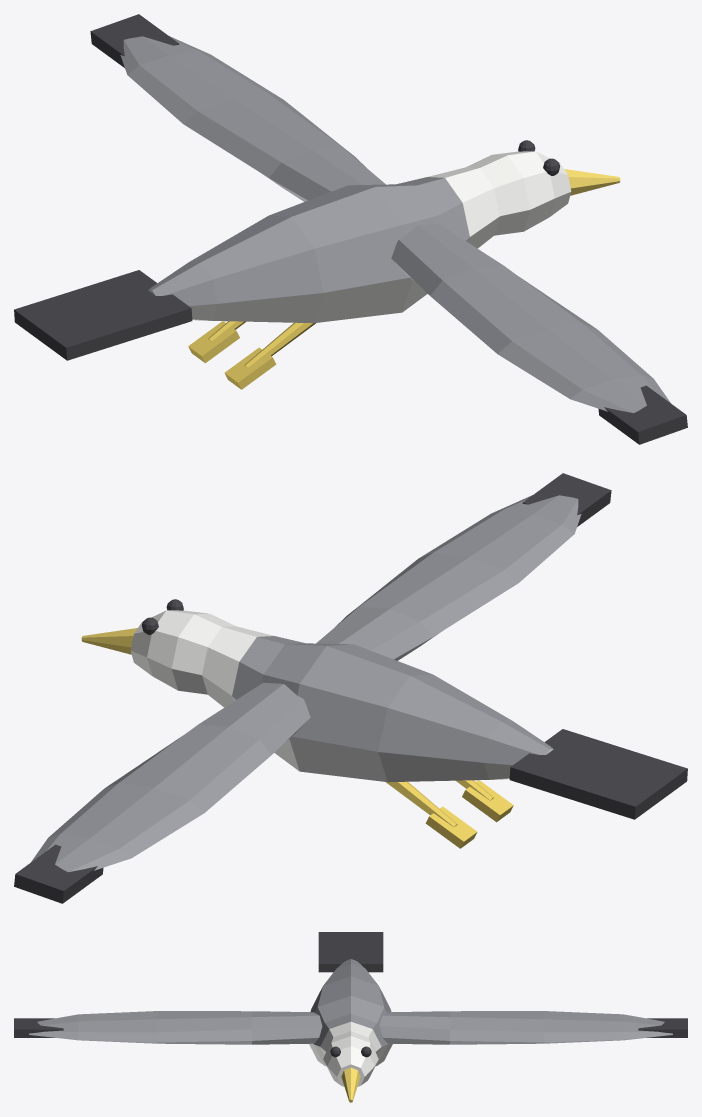
Rendered from 36-Fauna_gaviota.glb.
3 views of the same model, one above another, from view 1: azimuth 30°, elevation 25°; view 2: azimuth 150°, elevation 25°; view 3: azimuth 270°, elevation 25° (orthographic). The views are drawn at different scales.
Visible parts, largest first — view 1: SM_Gaviota_Cuerpo, SM_Gaviota_Ala_L, SM_Gaviota_Ala_R, SM_Gaviota_Cola, SM_Gaviota_Punta_0, SM_Gaviota_Punta_1, SM_Gaviota_Pie_0, SM_Gaviota_Pie_1, SM_Gaviota_Pico, SM_Gaviota_Pata_0; view 2: SM_Gaviota_Cuerpo, SM_Gaviota_Ala_R, SM_Gaviota_Ala_L, SM_Gaviota_Cola, SM_Gaviota_Punta_1, SM_Gaviota_Punta_0, SM_Gaviota_Pie_1, SM_Gaviota_Pie_0, SM_Gaviota_Pico, SM_Gaviota_Pata_1; view 3: SM_Gaviota_Ala_L, SM_Gaviota_Ala_R, SM_Gaviota_Cuerpo, SM_Gaviota_Cola, SM_Gaviota_Punta_0, SM_Gaviota_Punta_1, SM_Gaviota_Pico.
Boxes of the visible parts, x1=… form: SM_Gaviota_Cuerpo: x1=148, y1=151, x2=571, y2=323; SM_Gaviota_Ala_L: x1=391, y1=223, x2=670, y2=413; SM_Gaviota_Ala_R: x1=120, y1=36, x2=385, y2=201; SM_Gaviota_Cola: x1=14, y1=270, x2=192, y2=360; SM_Gaviota_Punta_0: x1=598, y1=385, x2=687, y2=444; SM_Gaviota_Punta_1: x1=90, y1=14, x2=179, y2=67; SM_Gaviota_Pie_0: x1=224, y1=347, x2=276, y2=389; SM_Gaviota_Pie_1: x1=188, y1=321, x2=239, y2=363; SM_Gaviota_Pico: x1=564, y1=169, x2=620, y2=195; SM_Gaviota_Pata_0: x1=244, y1=322, x2=315, y2=367; SM_Gaviota_Cuerpo: x1=130, y1=610, x2=553, y2=782; SM_Gaviota_Ala_R: x1=31, y1=682, x2=310, y2=872; SM_Gaviota_Ala_L: x1=316, y1=495, x2=581, y2=660; SM_Gaviota_Cola: x1=509, y1=729, x2=687, y2=819; SM_Gaviota_Punta_1: x1=14, y1=844, x2=103, y2=903; SM_Gaviota_Punta_0: x1=522, y1=473, x2=611, y2=526; SM_Gaviota_Pie_1: x1=425, y1=806, x2=477, y2=848; SM_Gaviota_Pie_0: x1=462, y1=780, x2=513, y2=822; SM_Gaviota_Pico: x1=81, y1=628, x2=137, y2=654; SM_Gaviota_Pata_1: x1=386, y1=781, x2=457, y2=826; SM_Gaviota_Ala_L: x1=29, y1=1011, x2=322, y2=1044; SM_Gaviota_Ala_R: x1=379, y1=1011, x2=672, y2=1044; SM_Gaviota_Cuerpo: x1=309, y1=959, x2=392, y2=1086; SM_Gaviota_Cola: x1=318, y1=932, x2=383, y2=972; SM_Gaviota_Punta_0: x1=14, y1=1018, x2=63, y2=1037; SM_Gaviota_Punta_1: x1=638, y1=1018, x2=687, y2=1037; SM_Gaviota_Pico: x1=341, y1=1067, x2=360, y2=1102.
Bounding box in the file's own units: 0.8303 × 0.2001 × 1.36.
